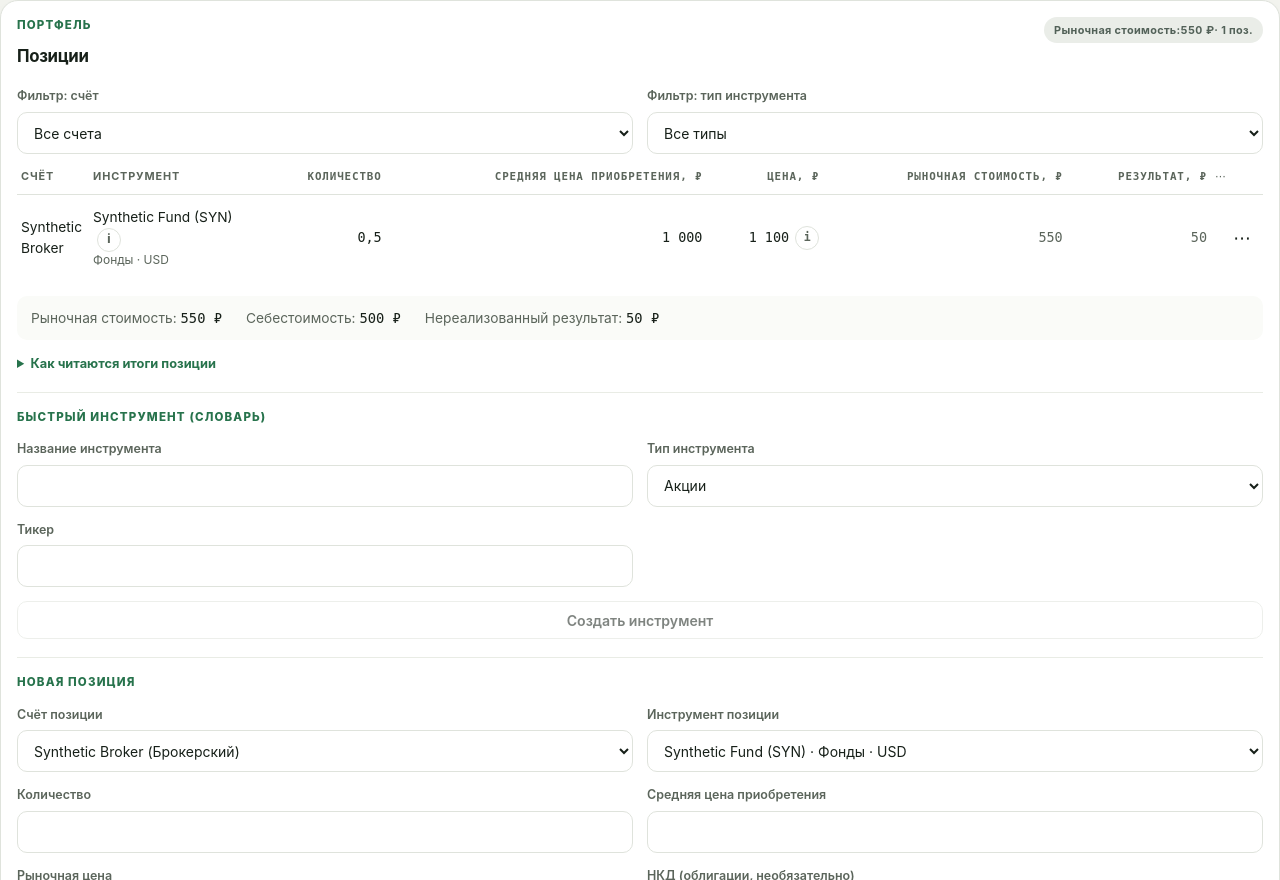
Test: native month positions leaf › edits with If-Match, then deletes only after confirmation and readback
The width and height of the screenshot is (1280, 880).
Expected: the text "Synthetic Fund (SYN)" is shown, [93,210,233,226]
Click the button named "Действия для позиции Synthetic Fund" at [1242, 238], box [1225,222,1259,254]
(page scrolled)
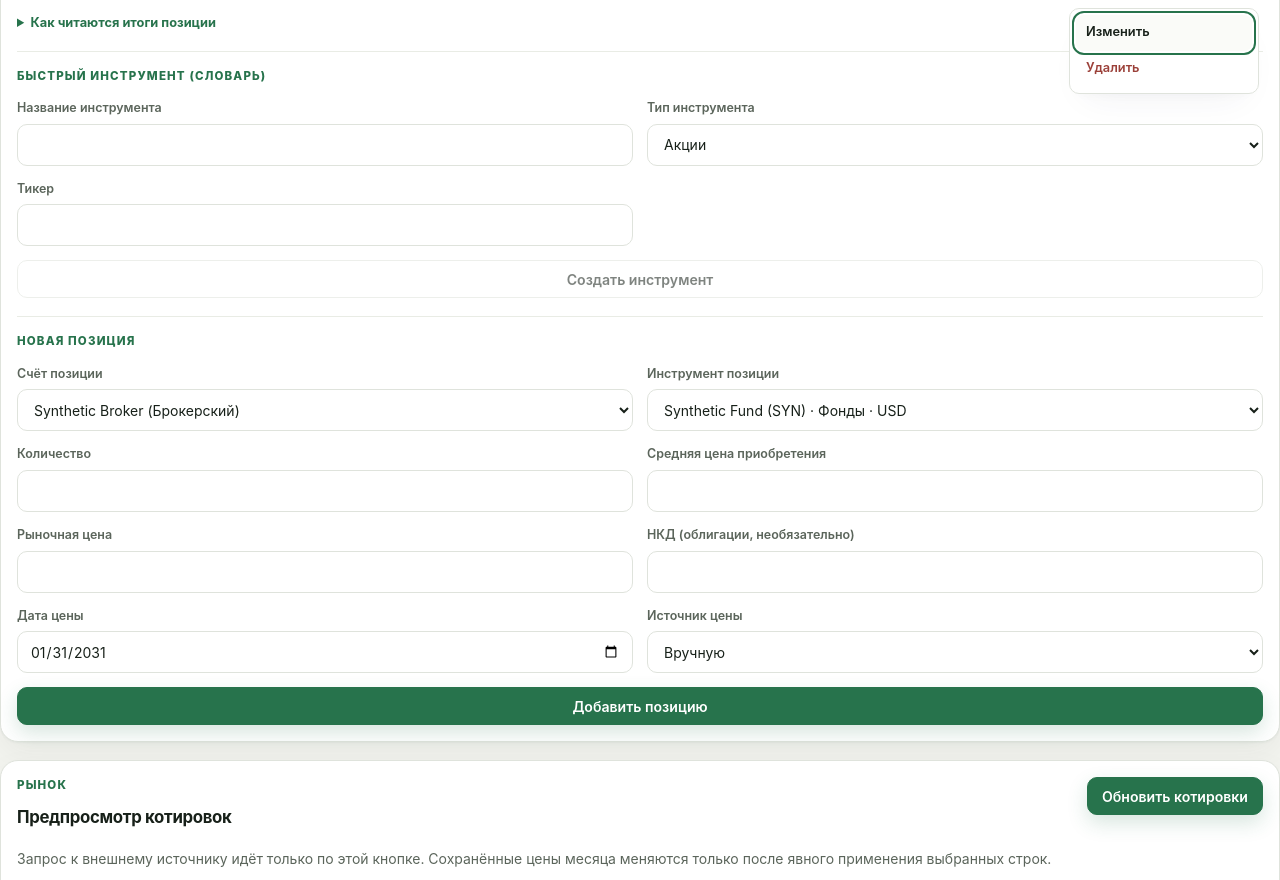
Click the menu item "Изменить" at [1164, 33], box [1076,15,1252,51]
(page scrolled)
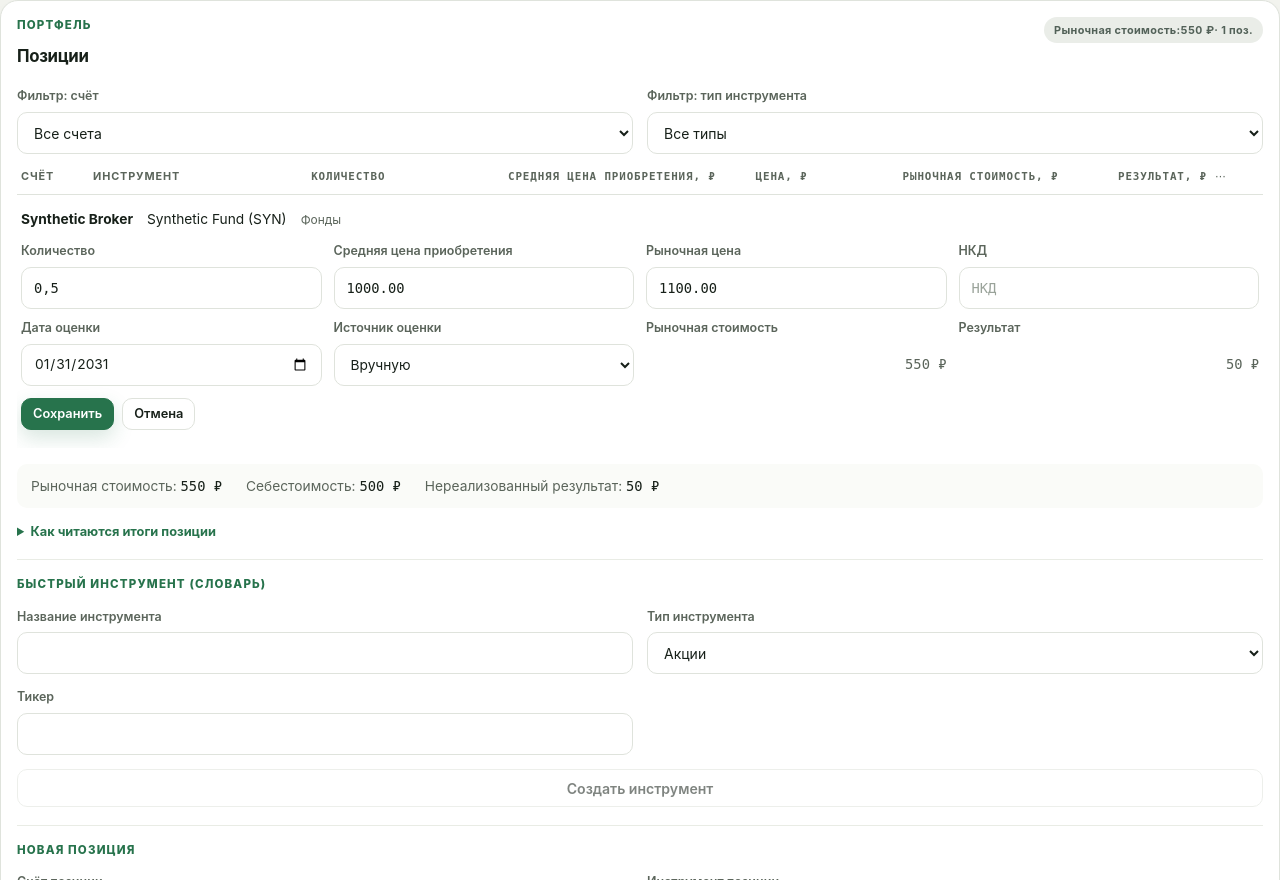
Replace the text in the field labelled "Количество" with "0.75" at [171, 288], box [21,267,322,309]
Click the button "Сохранить" at [68, 414], box [21,398,114,430]
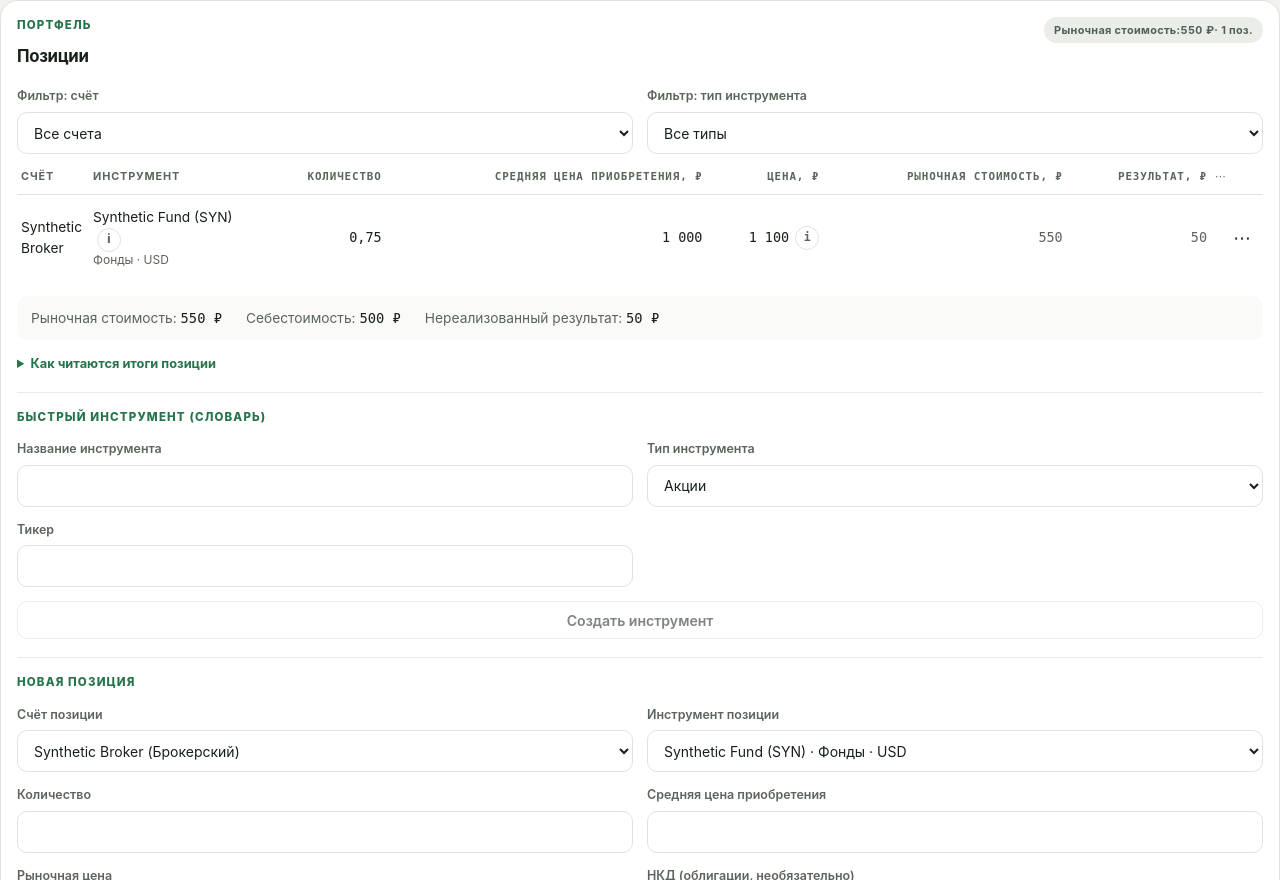
Expected: the table shows "0,75", [349,230,382,244]
Click the button named "Действия для позиции Synthetic Fund" at [1242, 238], box [1225,222,1259,254]
(page scrolled)
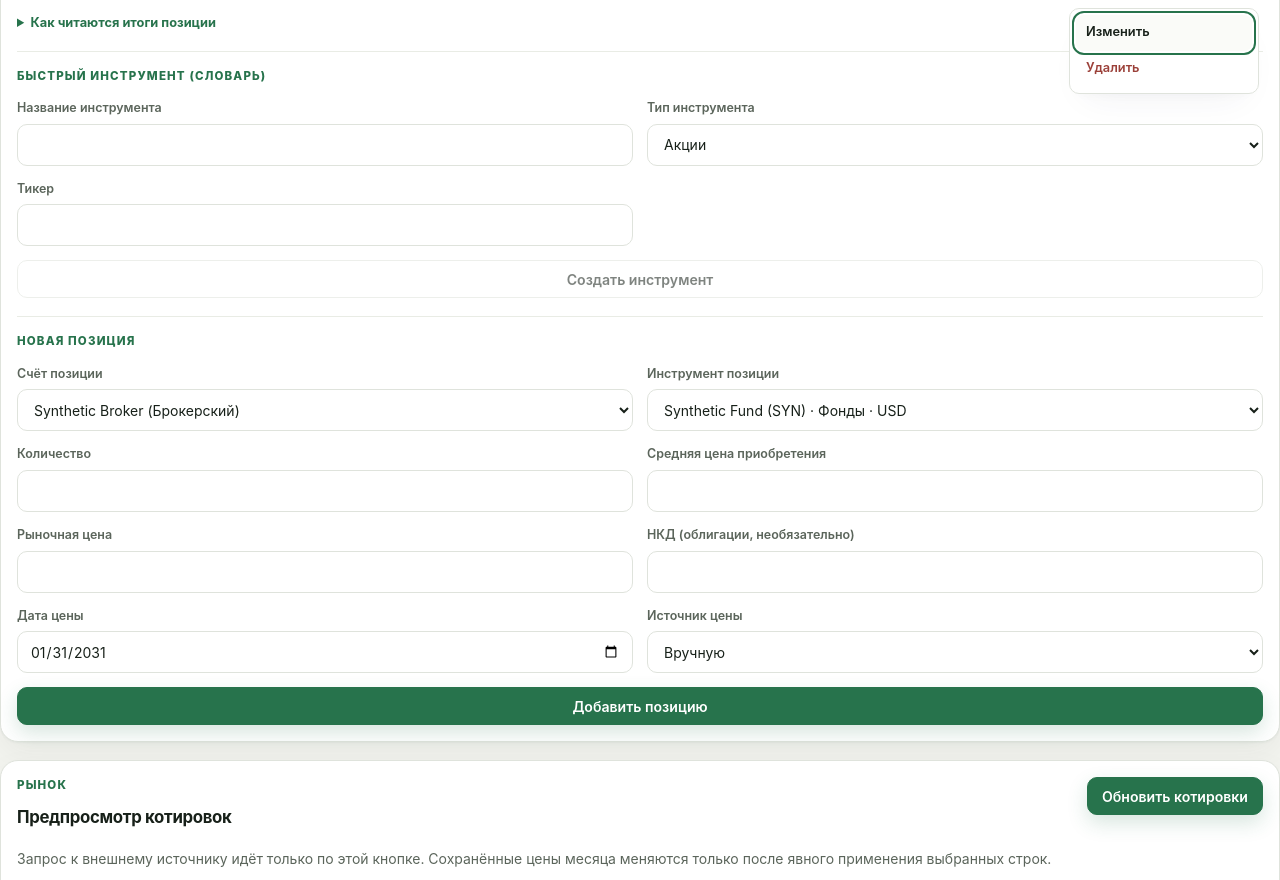
Click the menu item "Удалить" at [1164, 69], box [1076,51,1252,87]
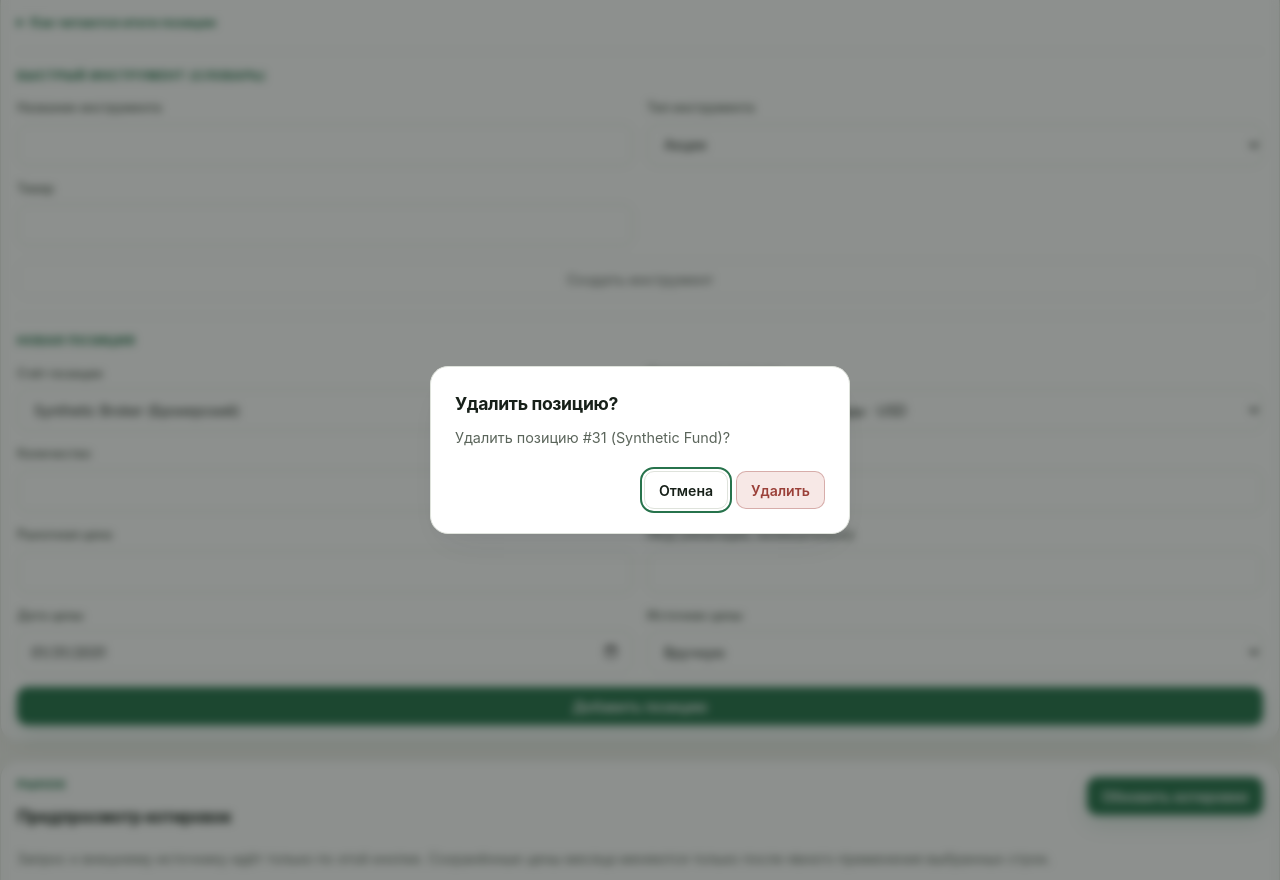
Click the button "Удалить" at [781, 490], box [736,471,825,509]
(page scrolled)
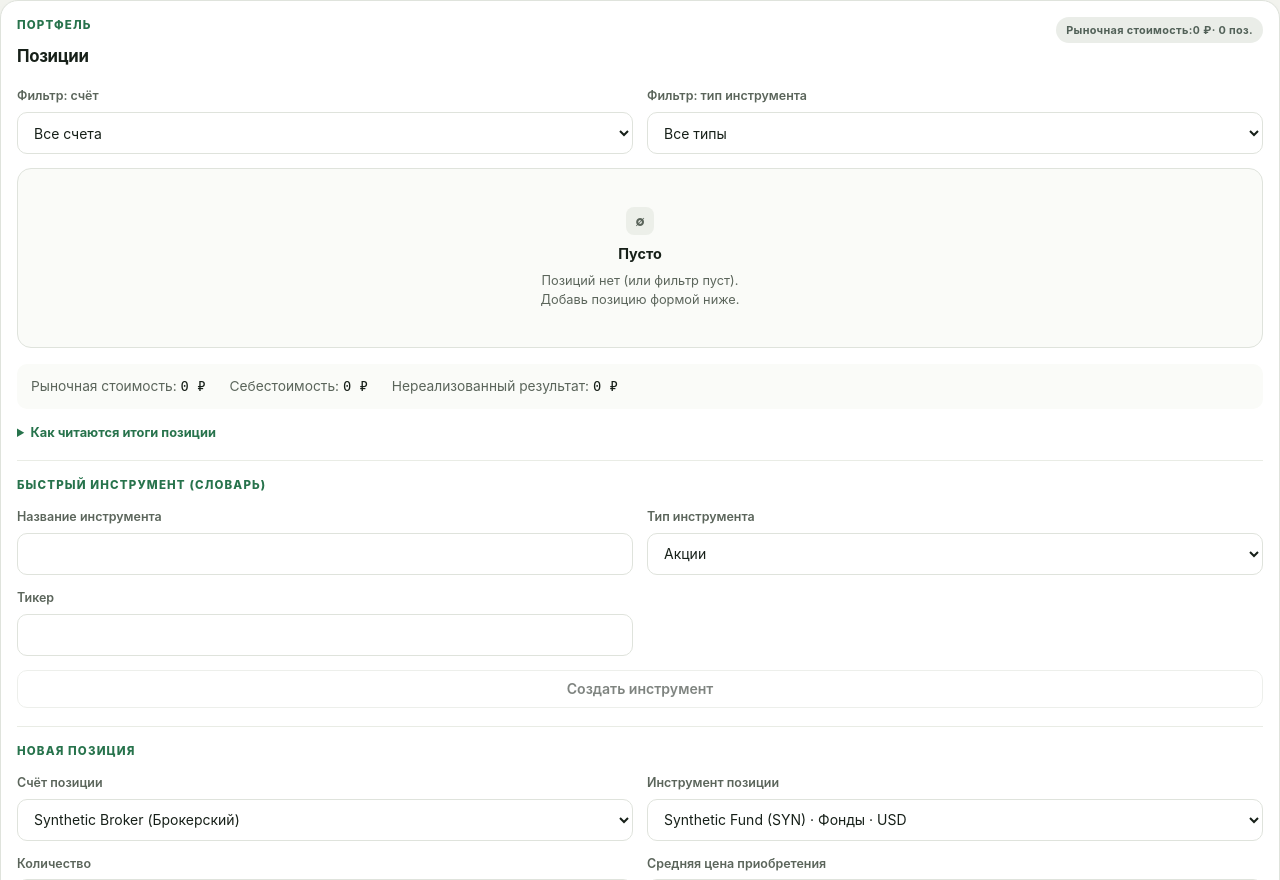
Expected: the text "Пусто" is shown, [618,243,662,264]
